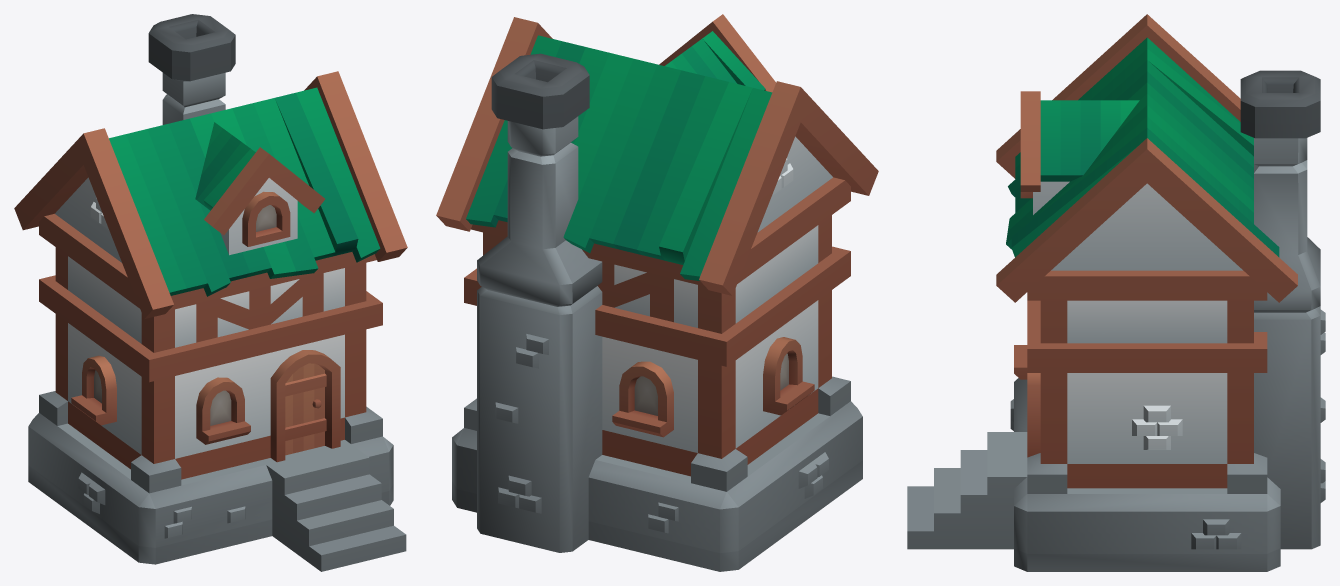
The model's file is building_home_B_green.glb.
3 renders of one model, left to right at view 1: azimuth 30°, elevation 25°; view 2: azimuth 150°, elevation 25°; view 3: azimuth 270°, elevation 25°, orthographic. The views are drawn at different scales.
Parts seen in each view (by area): view 1: building_home_B_green; view 2: building_home_B_green; view 3: building_home_B_green.
Boxes of the visible parts, x1=… form: building_home_B_green: x1=14, y1=14, x2=407, y2=571; building_home_B_green: x1=436, y1=14, x2=878, y2=571; building_home_B_green: x1=907, y1=14, x2=1325, y2=571.
Bounding box in the file's own units: 0.8749 × 1.28 × 1.1.
Materials: 1 (1 with a texture image).
